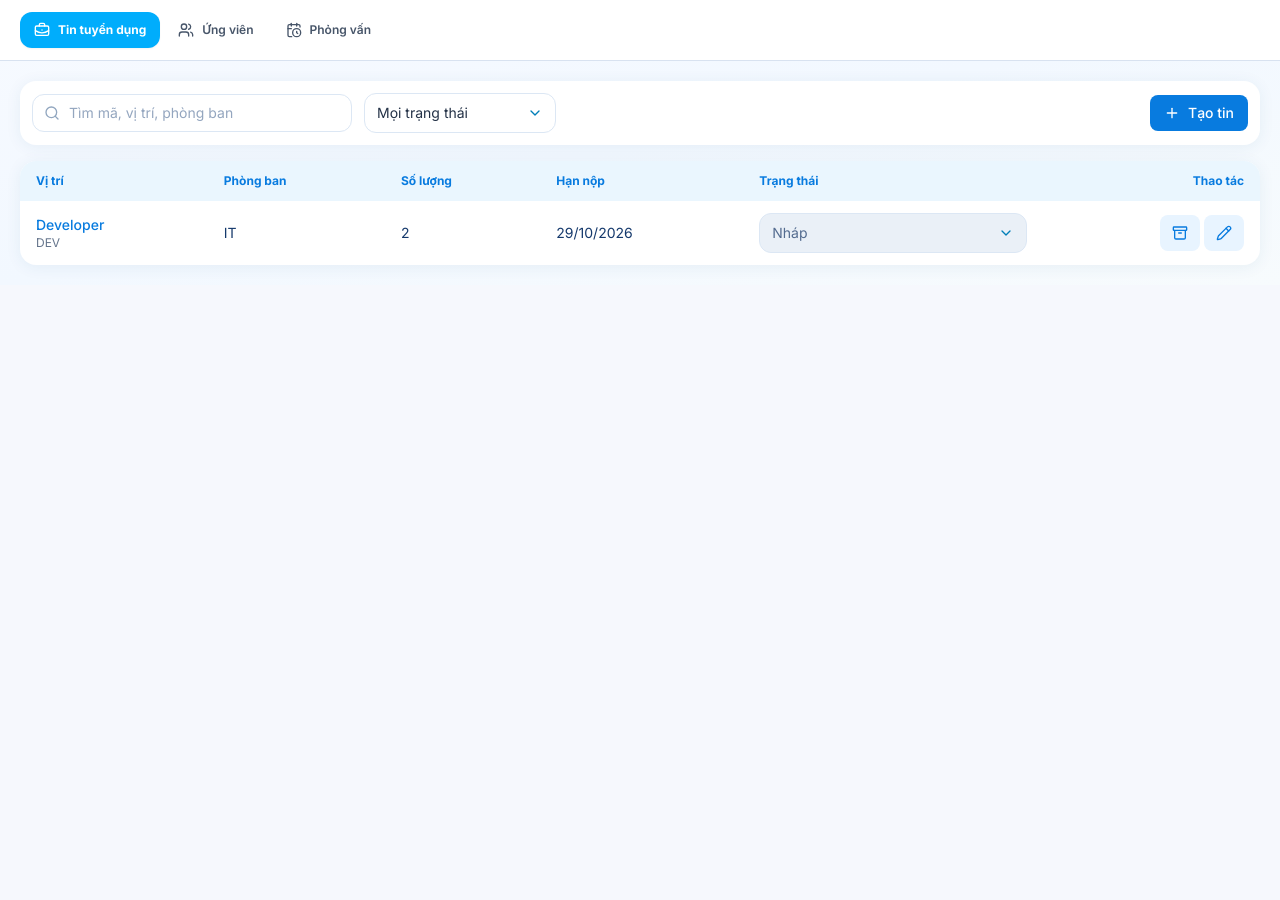
Test: RecruitmentTab › lists missing information when opening an incomplete job fails
Expected: the button "Developer" is shown, [36,215,104,235]
Click the button with aria-label "Trạng thái DEV": (790, 232) [759,213,1027,253]
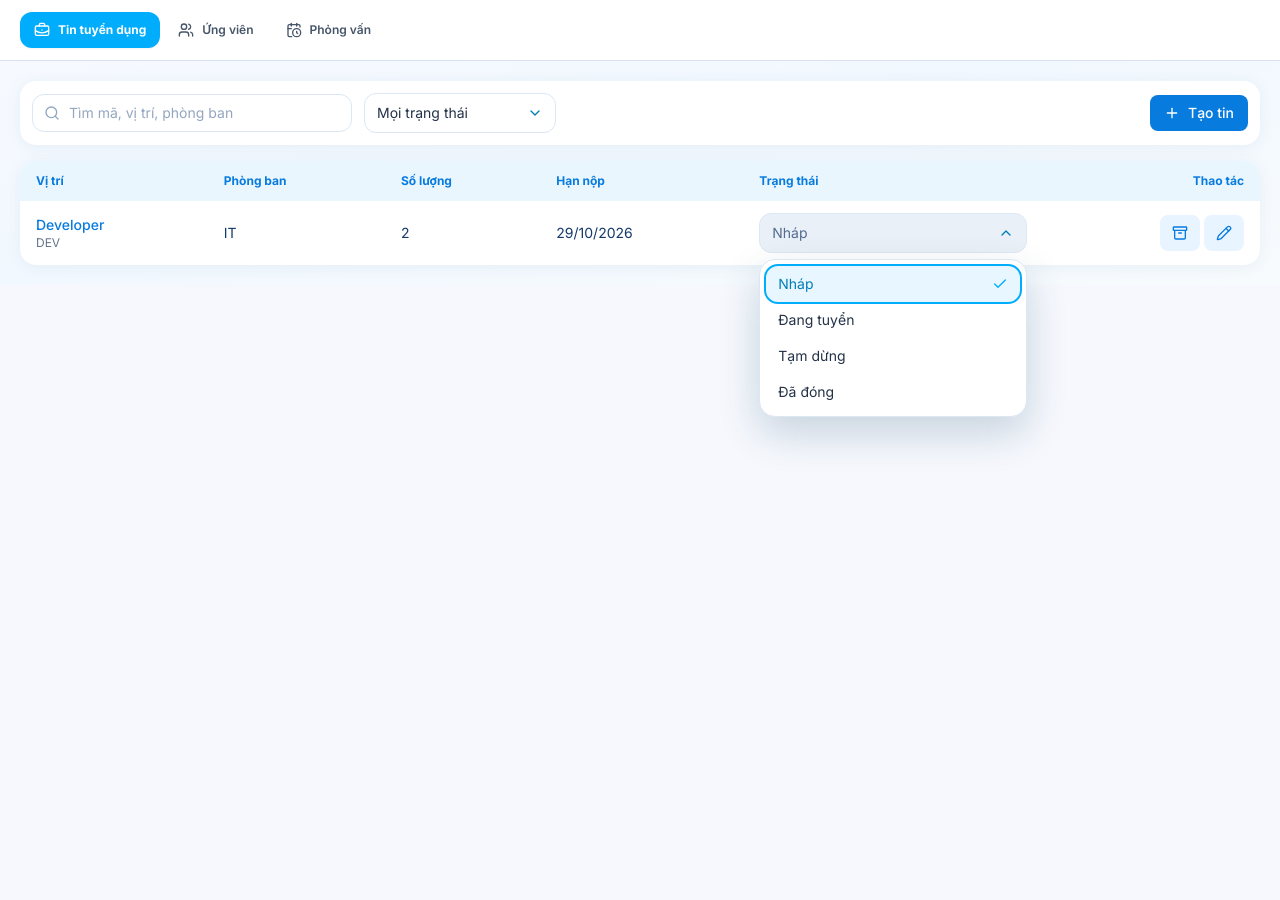
Click the option "Đang tuyển": (893, 320) [766,302,1020,338]
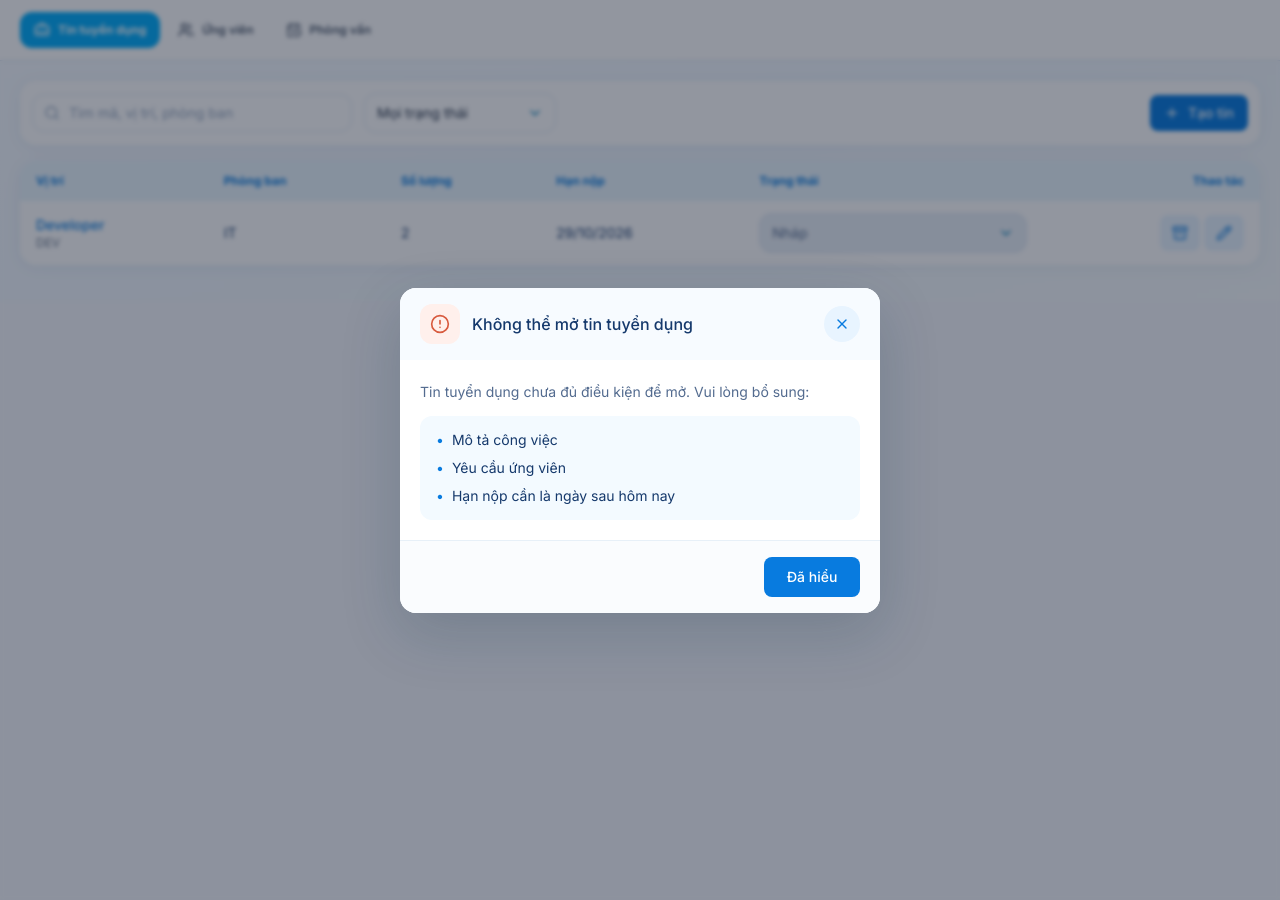
Expected: the text "Mô tả công việc" is shown, [452,428,558,452]
Expected: the text "Yêu cầu ứng viên" is shown, [452,456,566,480]
Expected: the text "Hạn nộp cần là ngày sau hôm nay" is shown, [452,484,675,508]
